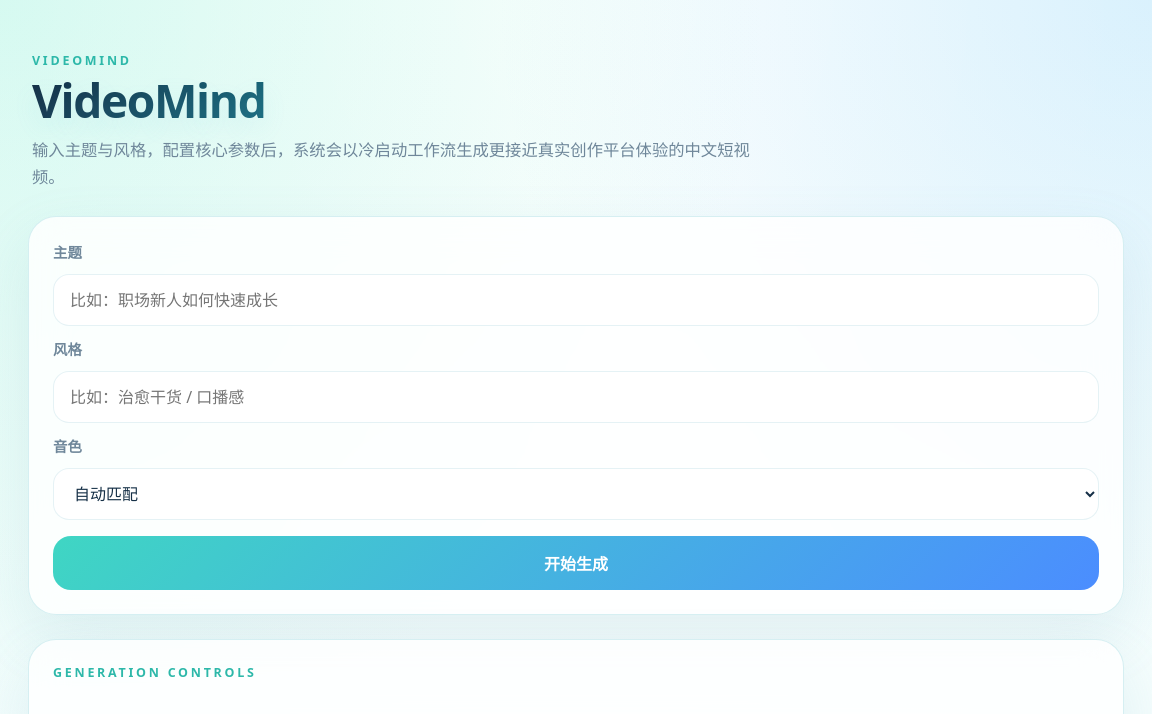
Test case: JobForm › shows an error on the home page when createJob fails
Step 1. Type "春节旅行攻略" into the field labelled "主题" → (576, 300), box 53,274 -> 1099,326
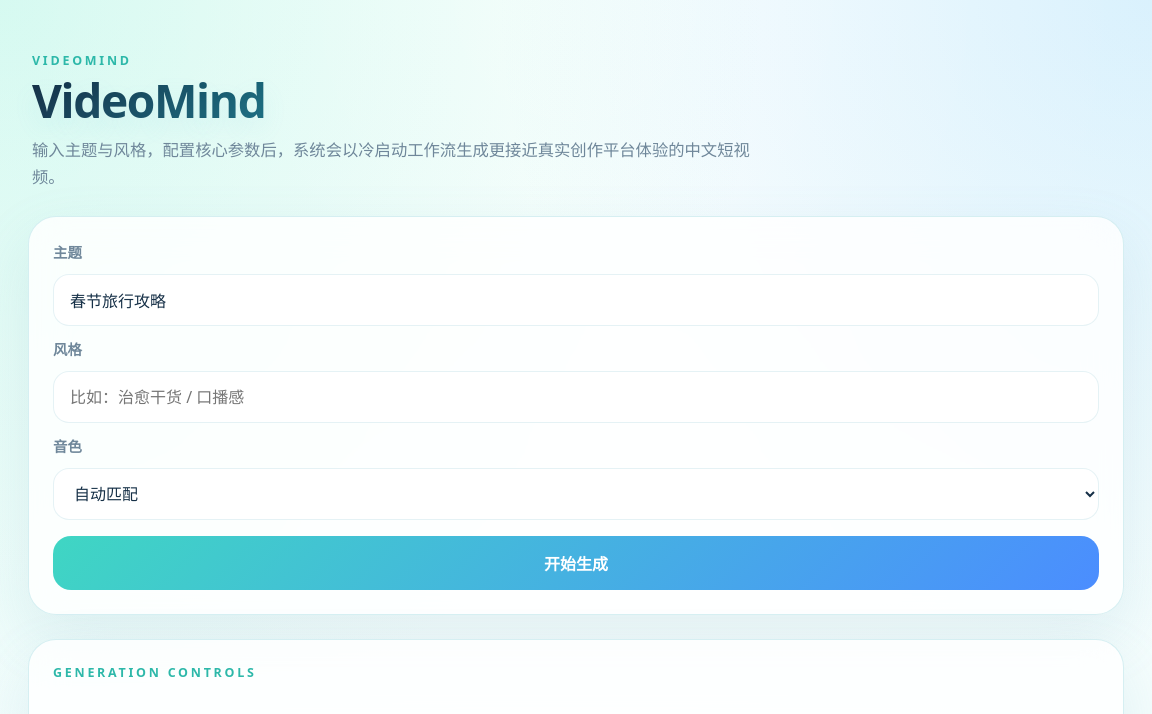
Step 2. Type "轻松口播" into the field labelled "风格" → (576, 397), box 53,371 -> 1099,423
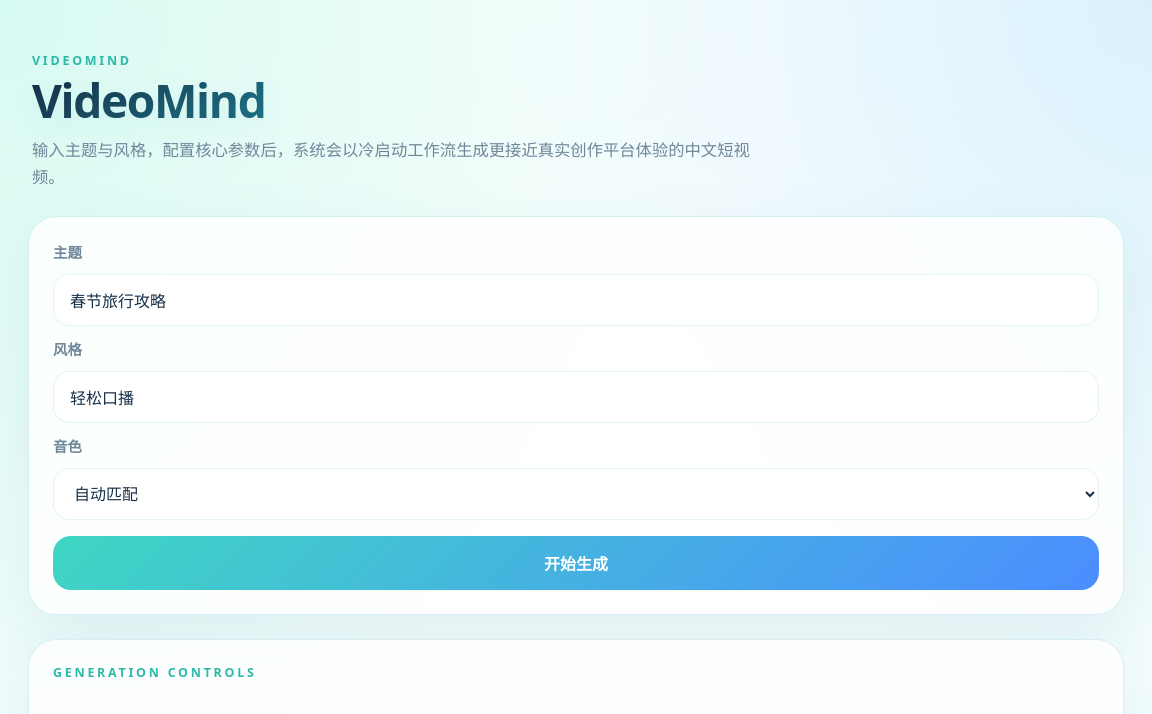
Step 3. Click the button "开始生成" → (576, 563), box 53,536 -> 1099,590
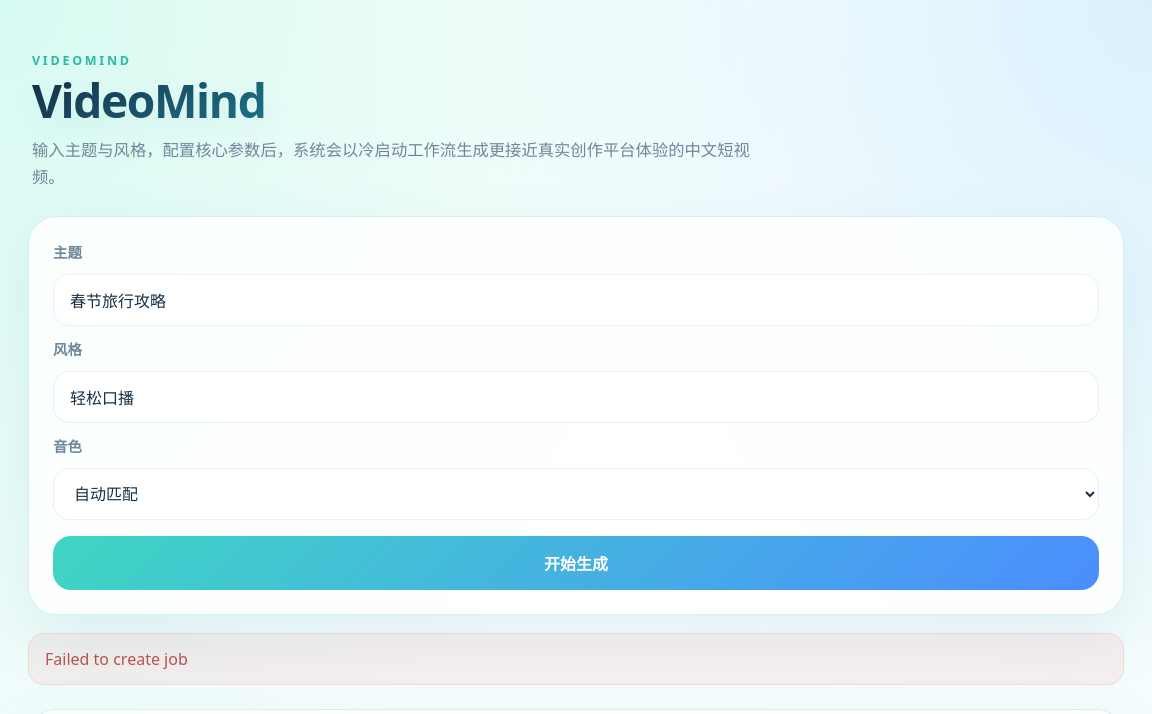
Check: the message reads "Failed to create job", box 45,648 -> 188,670
